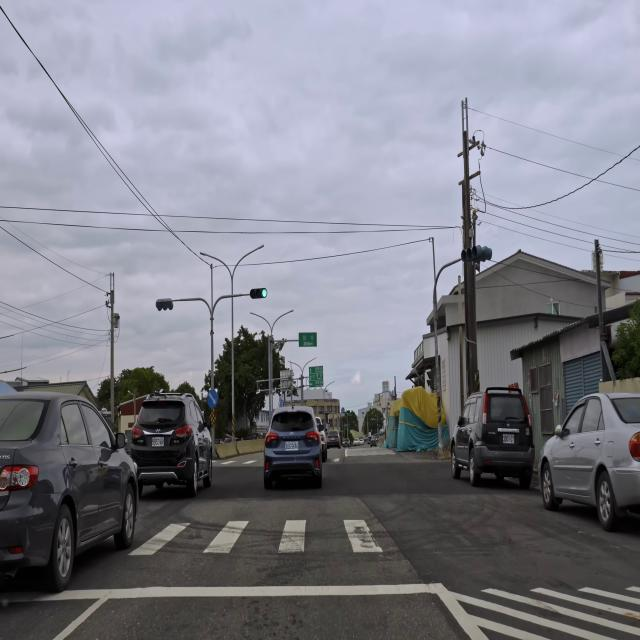green light: (249, 288, 268, 300)
